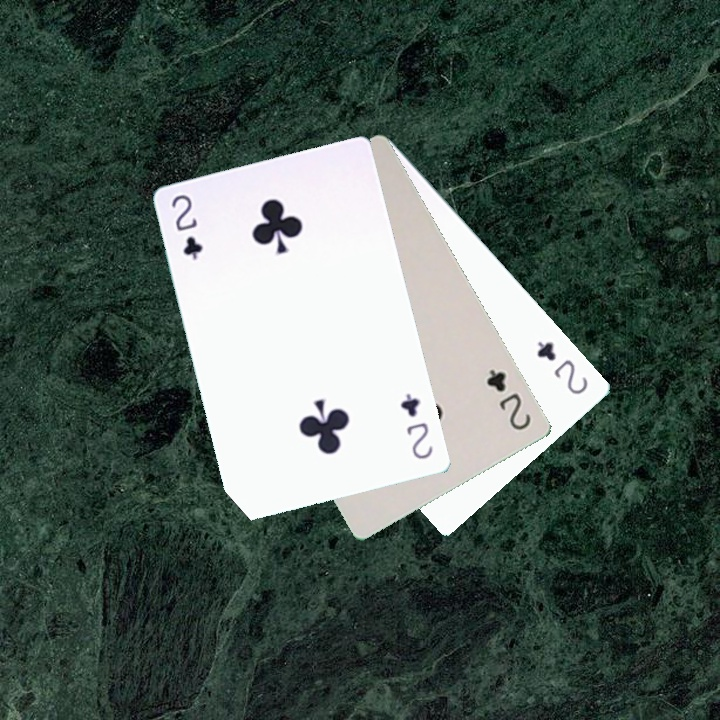2c: (532, 337, 591, 398), (482, 365, 534, 433), (396, 388, 436, 462), (167, 190, 206, 263)
